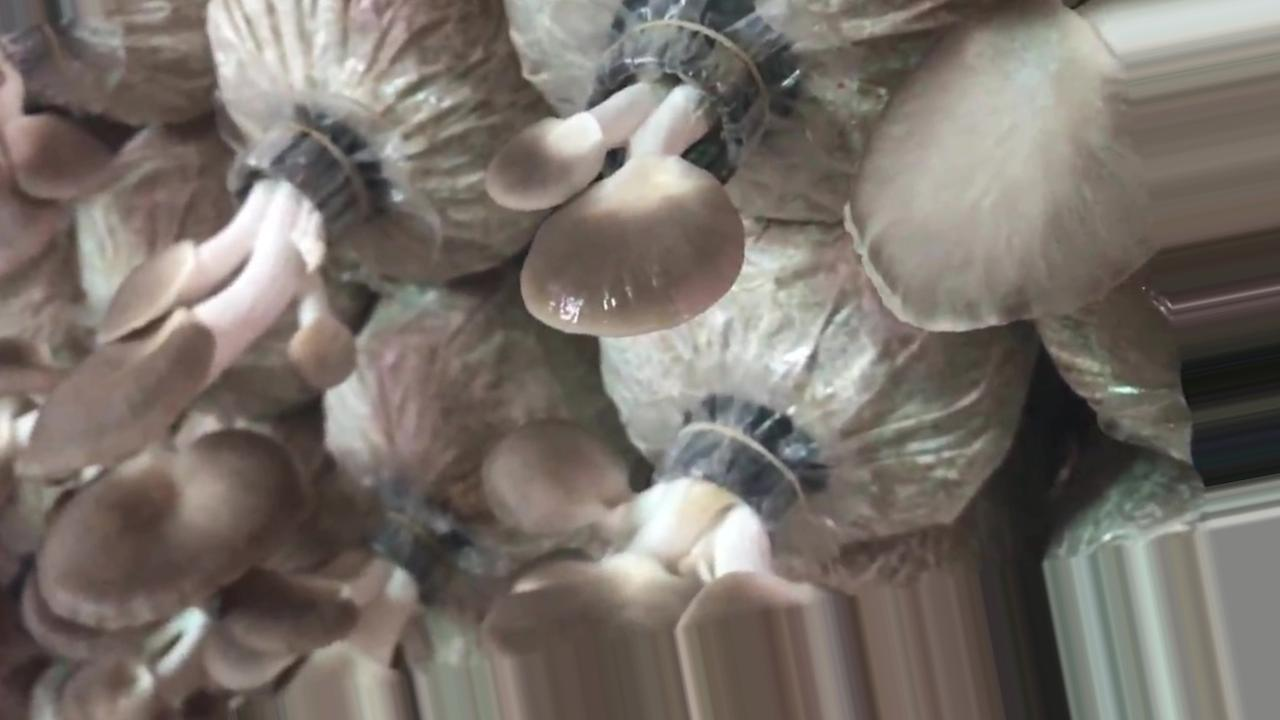nam: (836, 1, 1277, 341), (481, 410, 882, 720), (21, 138, 355, 489), (478, 3, 793, 339), (35, 428, 292, 631), (217, 524, 452, 720)
